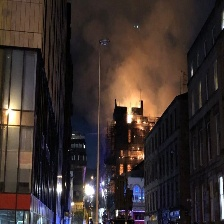fire: (124, 105, 146, 127)
smoke: (81, 1, 198, 109)
